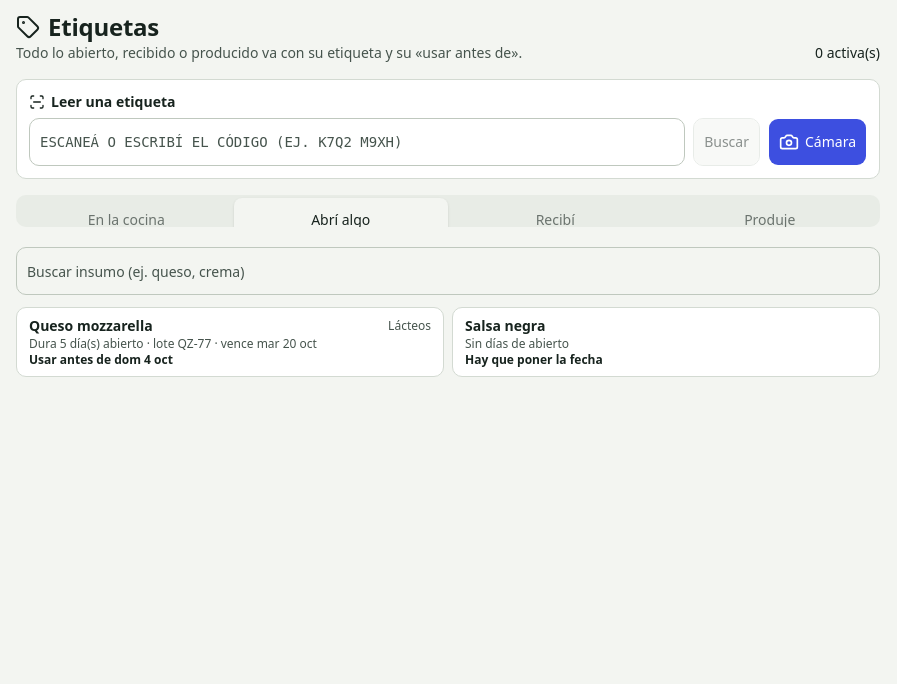
LabelsPage › sin regla de vencimiento no deja imprimir hasta poner la fecha
The width and height of the screenshot is (897, 684).
Click the button "Salsa negra Sin días de abierto Hay que poner la fecha" at (505, 326), box top-left (452, 307), bottom-right (880, 377)
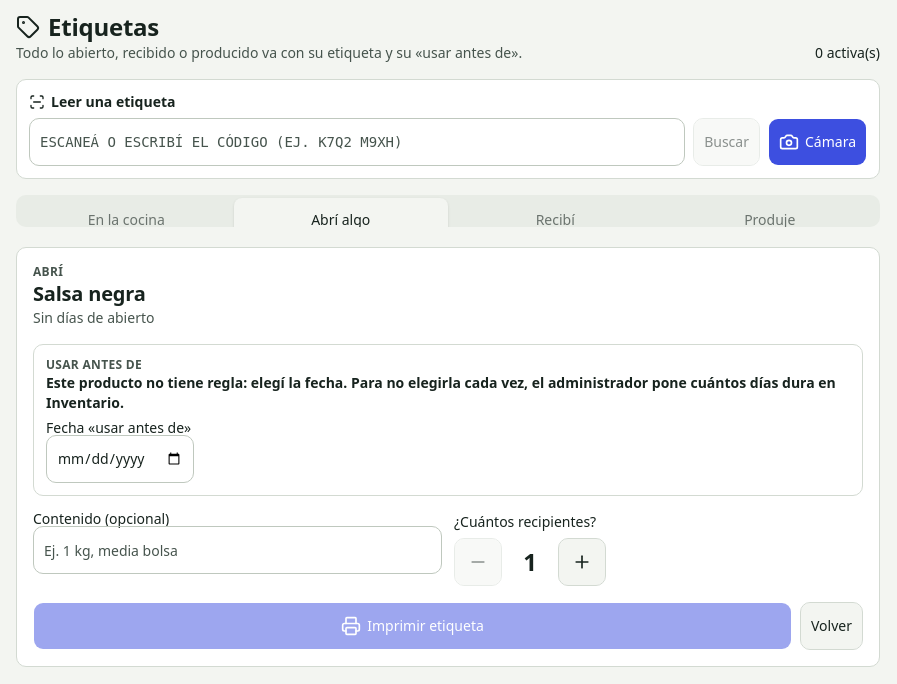
Expected: the text "no tiene regla" is shown, top-left (46, 373), bottom-right (836, 412)
Expected: the button "Imprimir etiqueta" is disabled, top-left (33, 602), bottom-right (792, 650)
